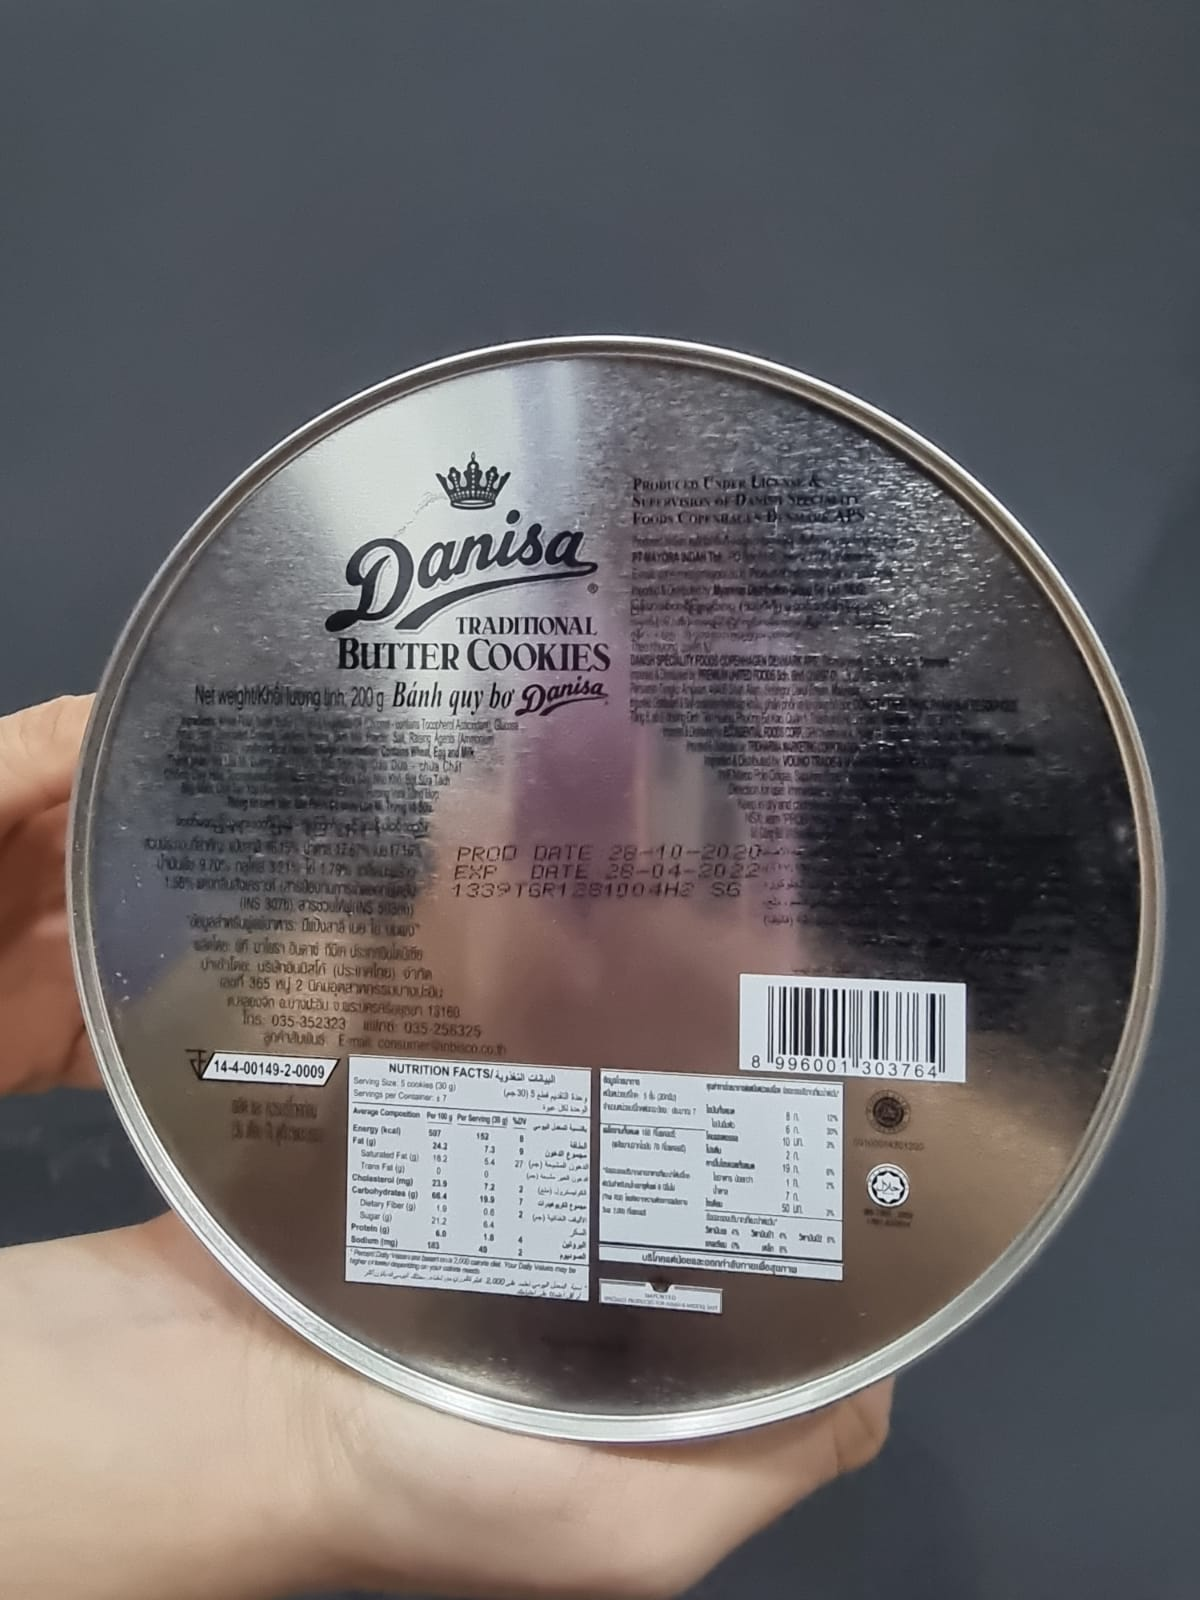Halal: (866, 1165, 908, 1204)
